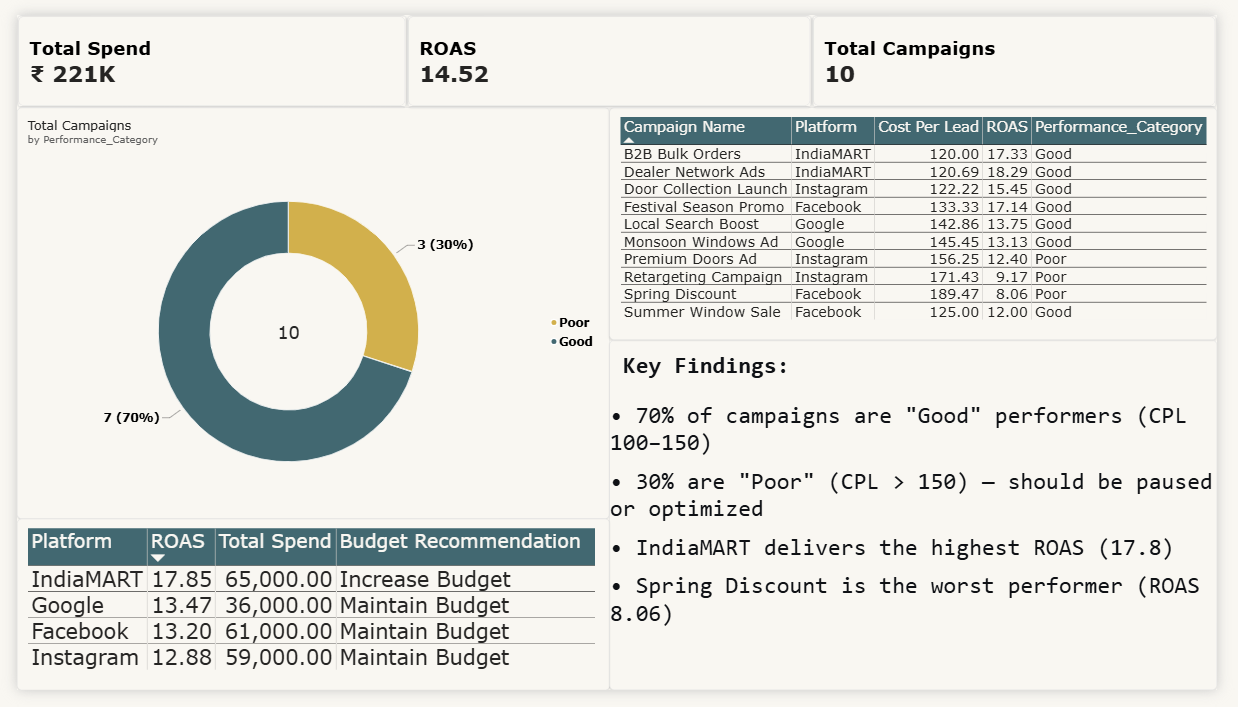

The page's visual inventory and layout, read from the dashboard file:
{"tool":"powerbi","page":{"name":"Campaign Efficiency","canvas":[1920,1080],"ordinal":2},"visuals":[{"type":"donutChart","fields":{"Category":["campaigns.Performance_Category"],"Y":["campaigns.Total Campaigns"]},"box":[0,148,948,658],"z":0},{"type":"tableEx","fields":{"Values":["campaigns.campaign_name","campaigns.platform","campaigns.Cost Per Lead","campaigns.ROAS","campaigns.Performance_Category"]},"box":[948,148,972,372],"z":1000},{"type":"tableEx","fields":{"Values":["campaigns.platform","campaigns.ROAS","campaigns.Total Spend","campaigns.Budget Recommendation"]},"box":[0,805.7,948.6,274.3],"z":2000},{"type":"textbox","box":[948,520,972,560],"z":3000},{"type":"cardVisual","fields":{"Data":["campaigns.Total Spend"]},"box":[0,0,624,148],"z":4000},{"type":"cardVisual","fields":{"Data":["campaigns.ROAS"]},"box":[624,0,648,148],"z":5000},{"type":"cardVisual","fields":{"Data":["campaigns.Total Campaigns"]},"box":[1272,0,648,148],"z":6000}]}

Visuals, with their boxes in screenshot pixels (x1, y1, x2, y2), scaled from the page's 1920x1080 canvas onto the 1238x707 screenshot:
donutChart - campaigns.Performance_Category x campaigns.Total Campaigns: detection(0, 97, 611, 528)
tableEx - campaigns.campaign_name x campaigns.platform: detection(611, 97, 1237, 340)
tableEx - campaigns.platform x campaigns.ROAS: detection(0, 527, 612, 706)
textbox: detection(611, 340, 1237, 706)
cardVisual - campaigns.Total Spend: detection(0, 0, 402, 97)
cardVisual - campaigns.ROAS: detection(402, 0, 820, 97)
cardVisual - campaigns.Total Campaigns: detection(820, 0, 1237, 97)
